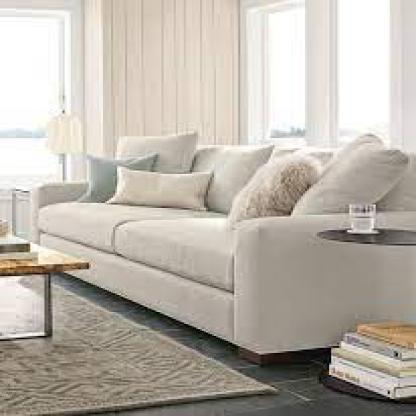sofa: (32, 140, 414, 286)
